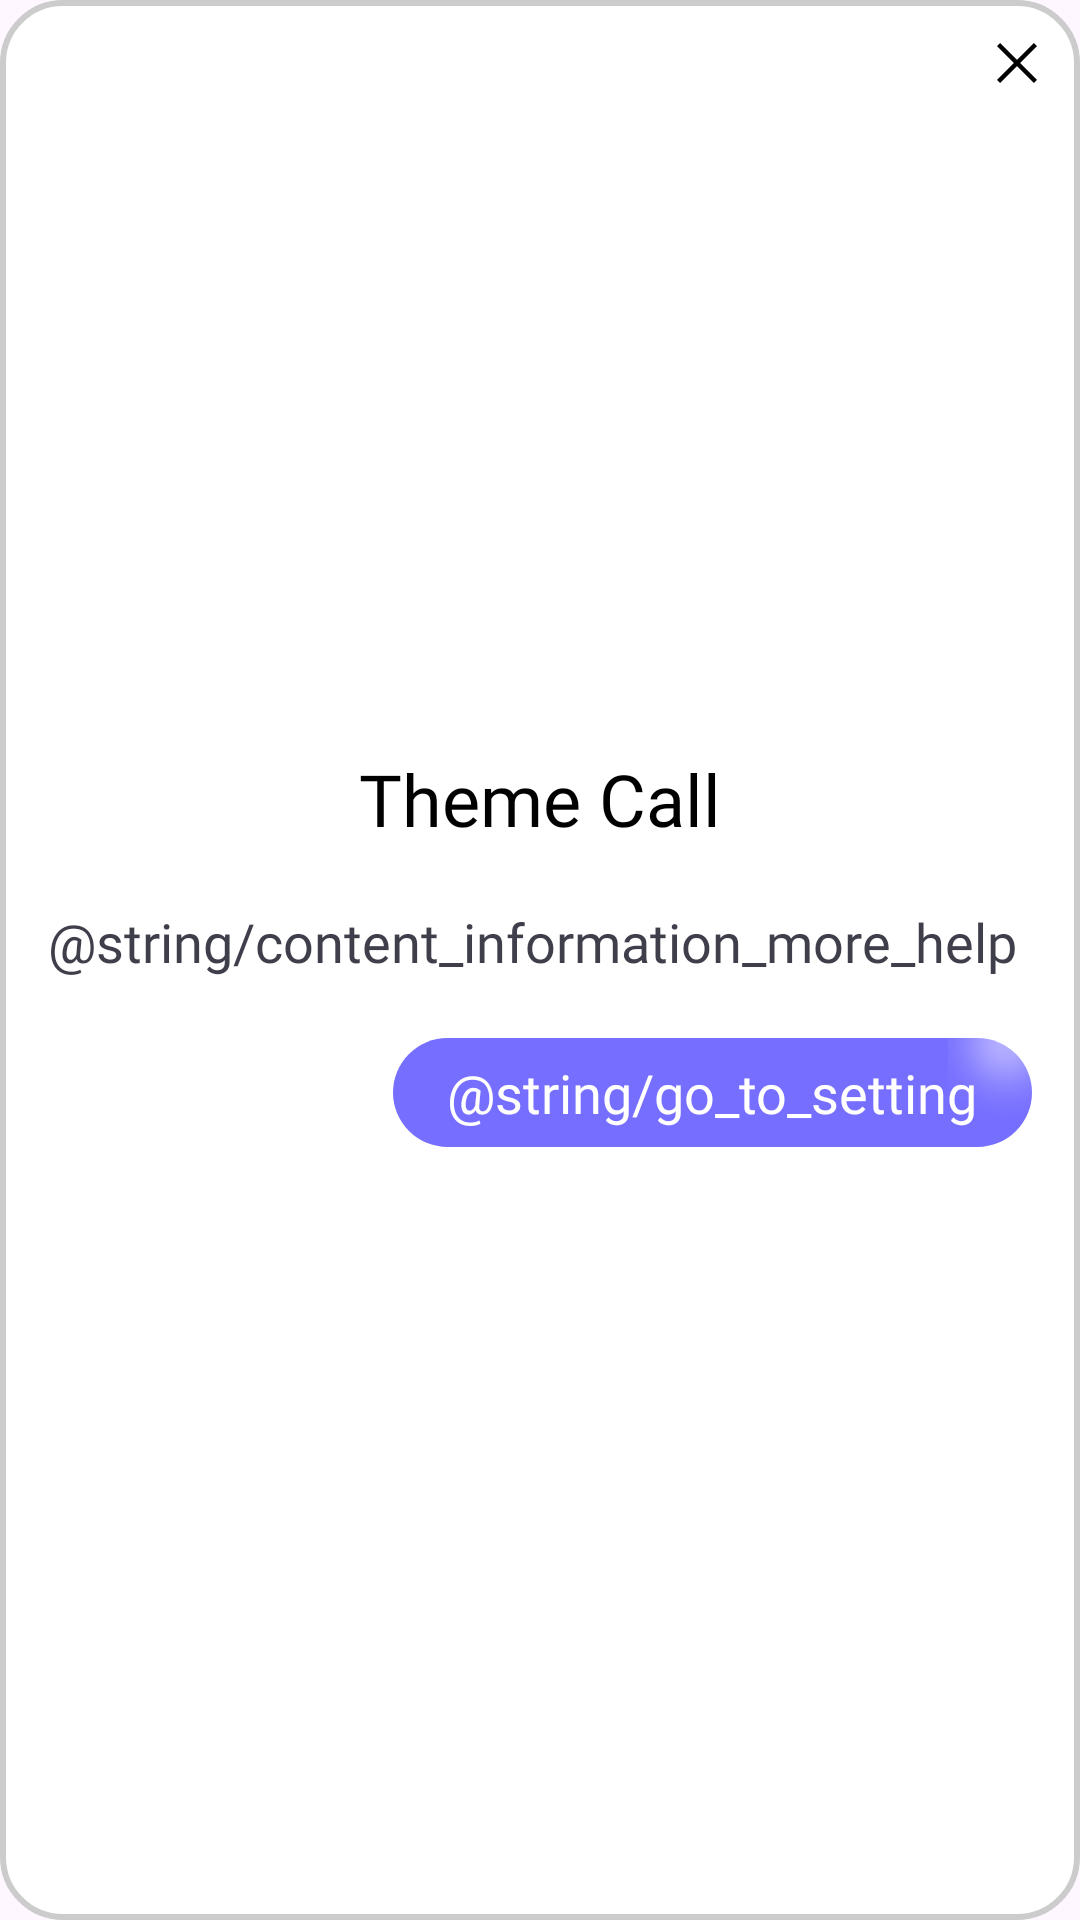

Icons on this 1080x1920 Android screen, each with its box as (x1, y1, x2, y2):
close: (997, 43, 1037, 83)
